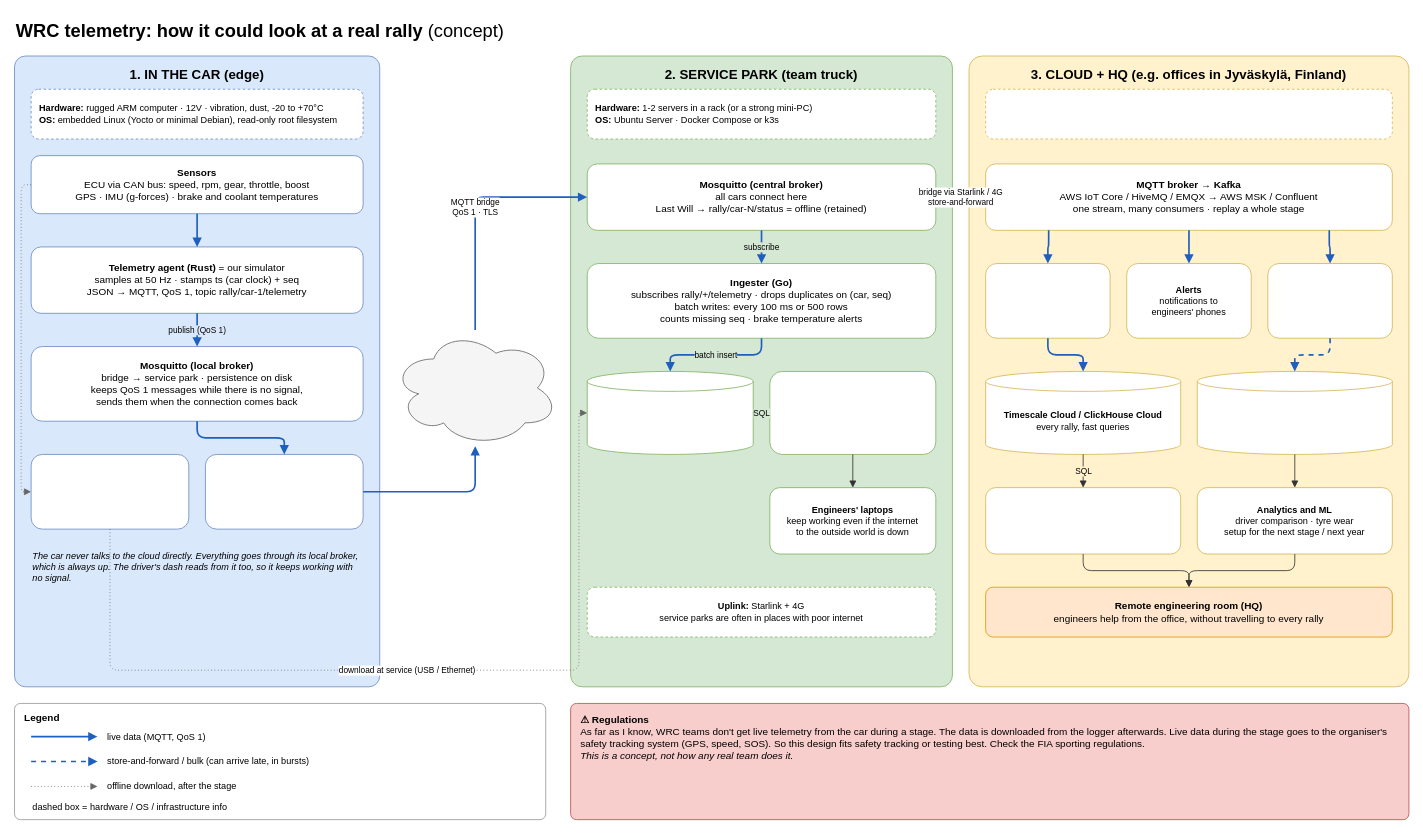
This 1423x834 diagram has some shape labels left out. Here are the shapes that lost their labels. From the top down, the centre of each, then its label:
pixel 1188 113: Managed services on AWS / GCP / Azure nobody has to maintain servers on the road
pixel 1047 300: Cloud ingester same Go code, different config
pixel 1329 300: Archiver writes raw data as Parquet files
pixel 474 387: Mobile network dead zones in the mountains, valleys, forests
pixel 669 412: TimescaleDB Postgres + hypertables PK (car, seq) ON CONFLICT DO NOTHING
pixel 852 412: Grafana car on the map, speed / rpm / temps, alerts on the local network
pixel 1294 412: S3 + Parquet cheap archive of every stage, every season
pixel 109 491: Data logger all channels, full rate downloaded after the stage / at service
pixel 284 491: 4G/5G modem dual SIM (two operators) + satellite backup for position / SOS
pixel 1083 520: Grafana Cloud the same dashboards as the service park
